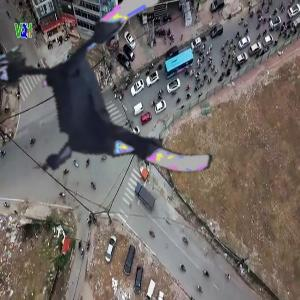drone: (9, 6, 217, 214)
